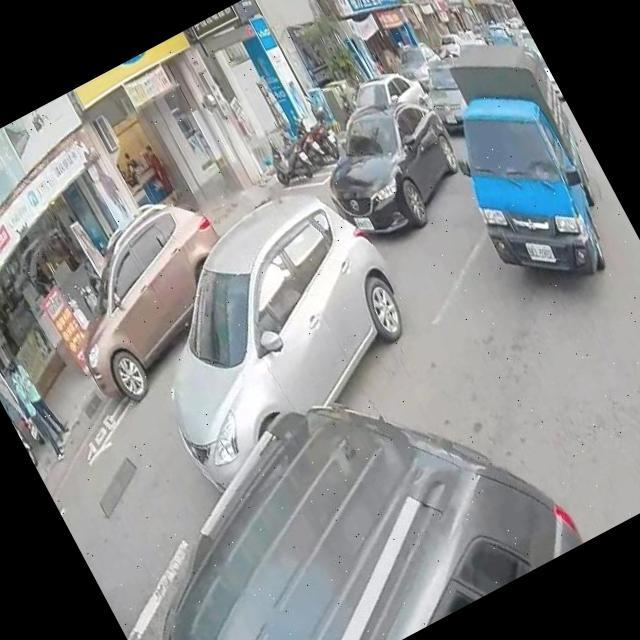person: (0, 360, 67, 464), (7, 350, 74, 450), (135, 141, 179, 201)
